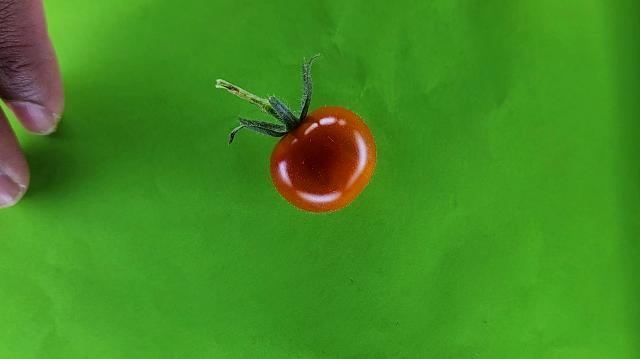Fully Grown: (266, 106, 378, 215)
